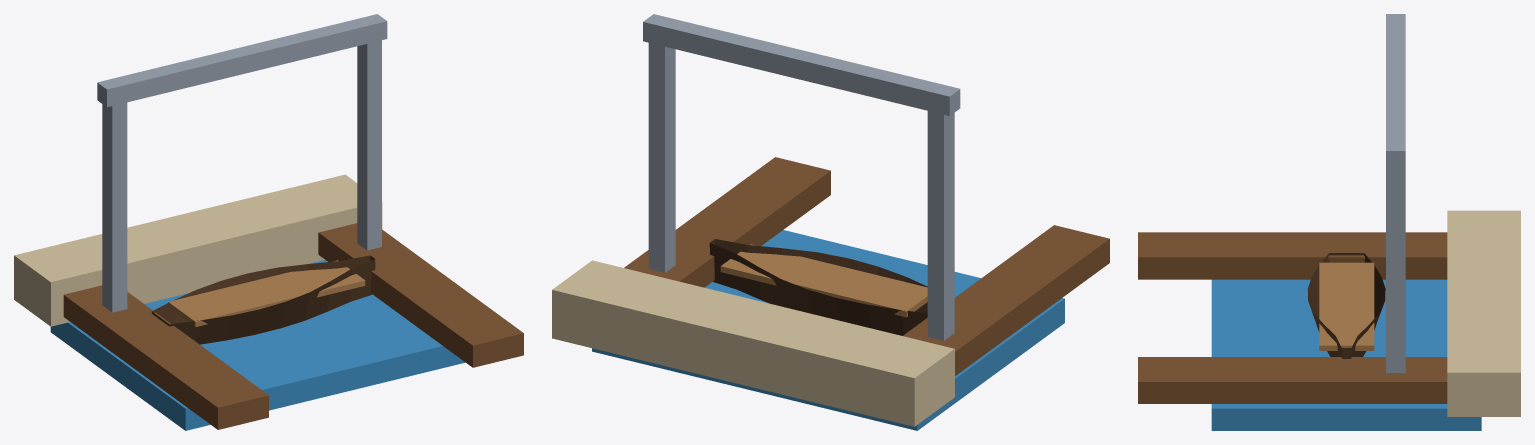
Rendered from building_shipyard.fbx.
3 views of the same model, side by side, from view 1: azimuth 30°, elevation 25°; view 2: azimuth 150°, elevation 25°; view 3: azimuth 270°, elevation 25° (orthographic). The views are drawn at different scales.
Visible parts, largest first — view 1: building_shipyard; view 2: building_shipyard; view 3: building_shipyard.
Part boxes in pixels (left/top/right/bottom): building_shipyard: left=14, top=14, right=523, bottom=430; building_shipyard: left=552, top=14, right=1109, bottom=430; building_shipyard: left=1138, top=14, right=1520, bottom=430.
Bounding box in the file's own units: 78 × 62 × 78.
